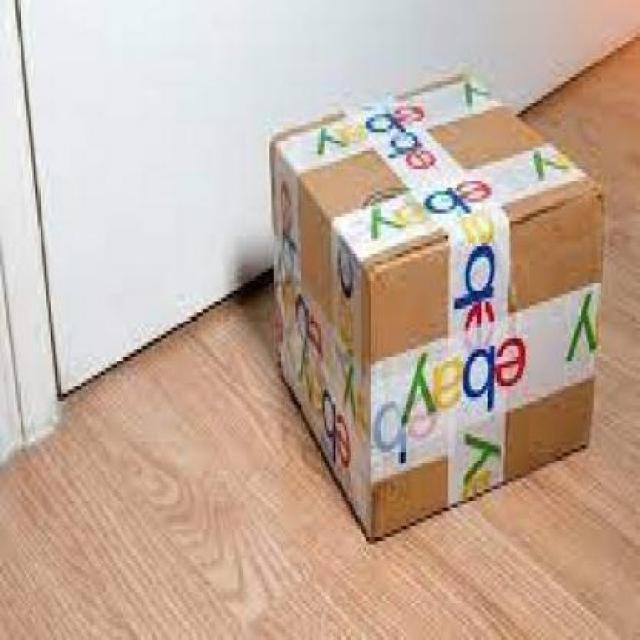box: (266, 64, 615, 542)
